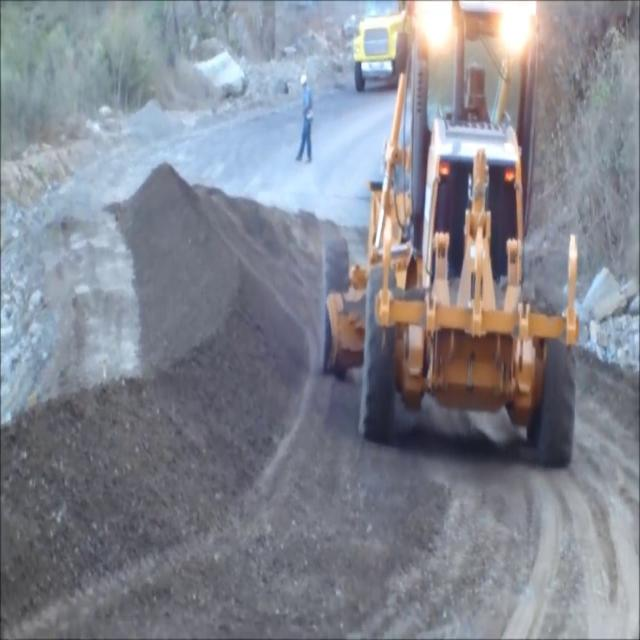buldozerpayloadergrader: (326, 1, 577, 464)
